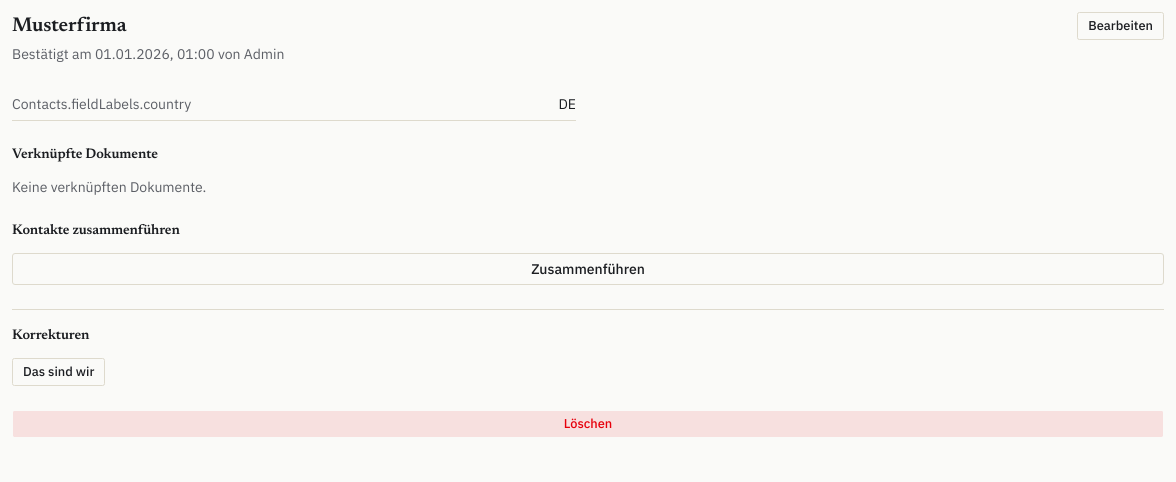
Test: ContactDetailClient - correction buttons (decisions/0037-correction-buttons.md) › shows the mapped error and does not redirect when the alias is rejected
The image size is (1176, 482).
Click the button "Das sind wir" at (59, 372), box [12, 358, 105, 386]
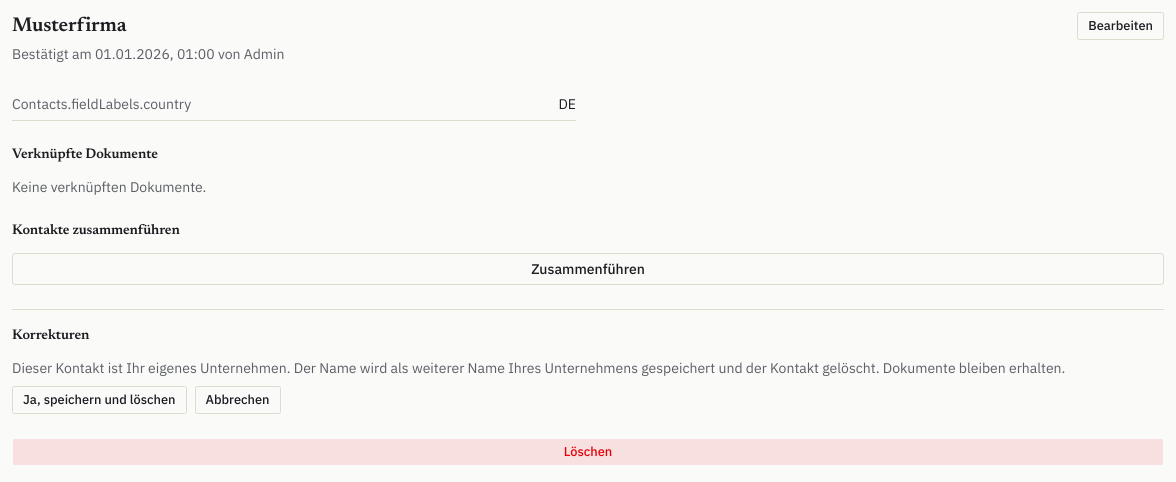
Click the button "Ja, speichern und löschen" at (99, 400), box [12, 386, 186, 414]
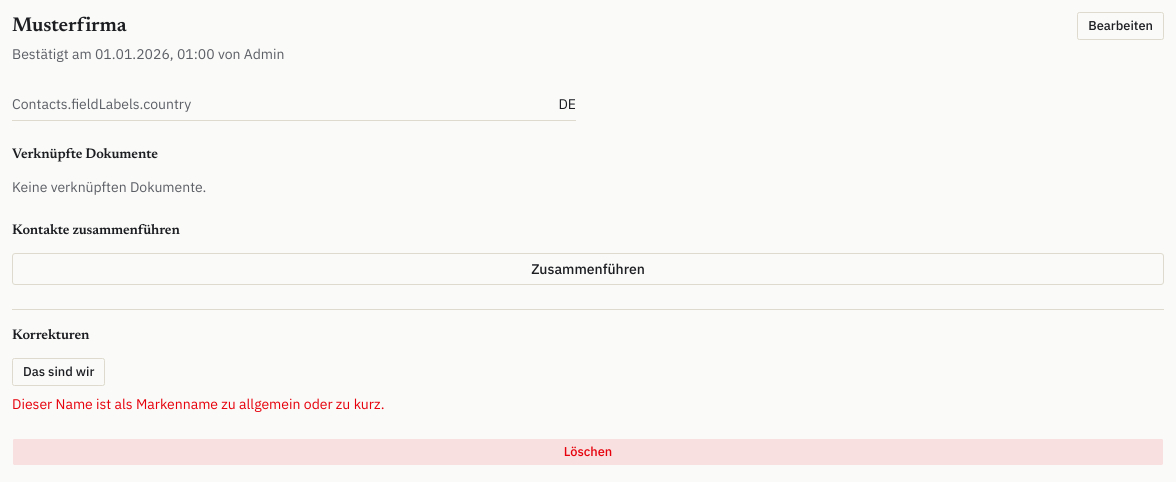
Check: the text "Dieser Name ist als Markenname zu allgemein oder zu kurz." is shown, box [12, 395, 384, 413]
